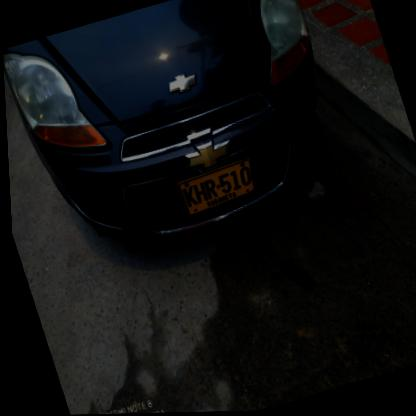placa: (166, 153, 263, 221)
